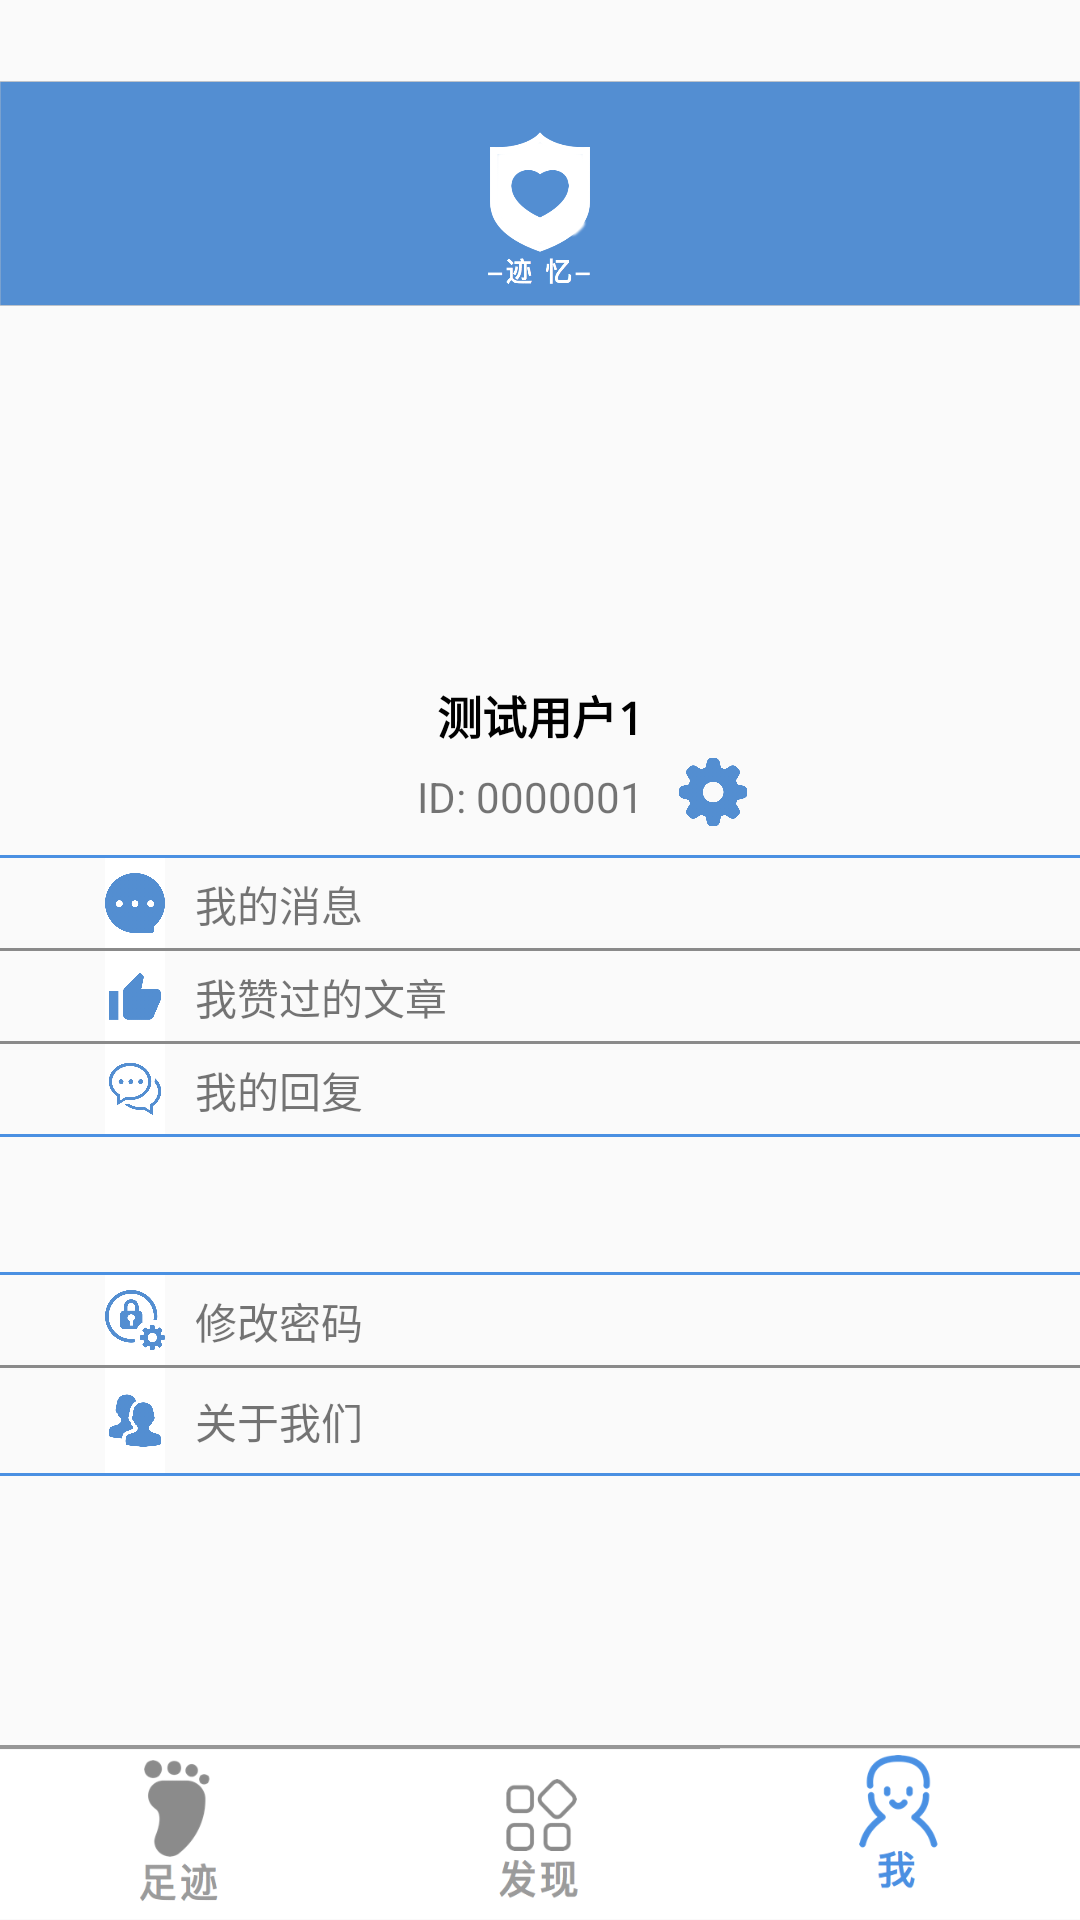

Where icons sit on this 1080px×1920px app screen, as [x1,y1,x2,y2]:
aboutus: [109,1394,161,1447]
changepsd: [105,1290,165,1350]
good: [109,973,161,1020]
message: [105,873,165,933]
response: [109,1063,161,1115]
set: [679,758,747,826]
